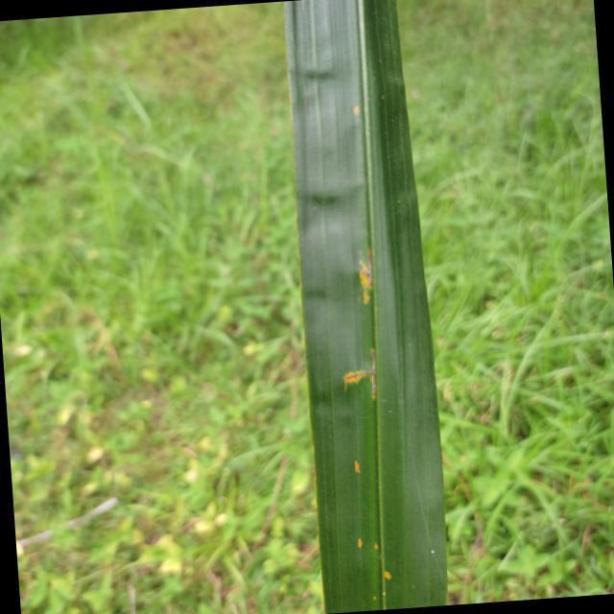Boron: (283, 0, 448, 614)
